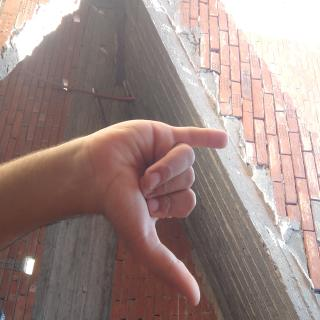YA: (85, 117, 232, 312)
